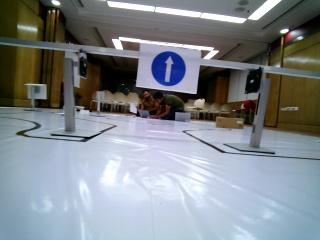straight: (135, 47, 198, 90)
